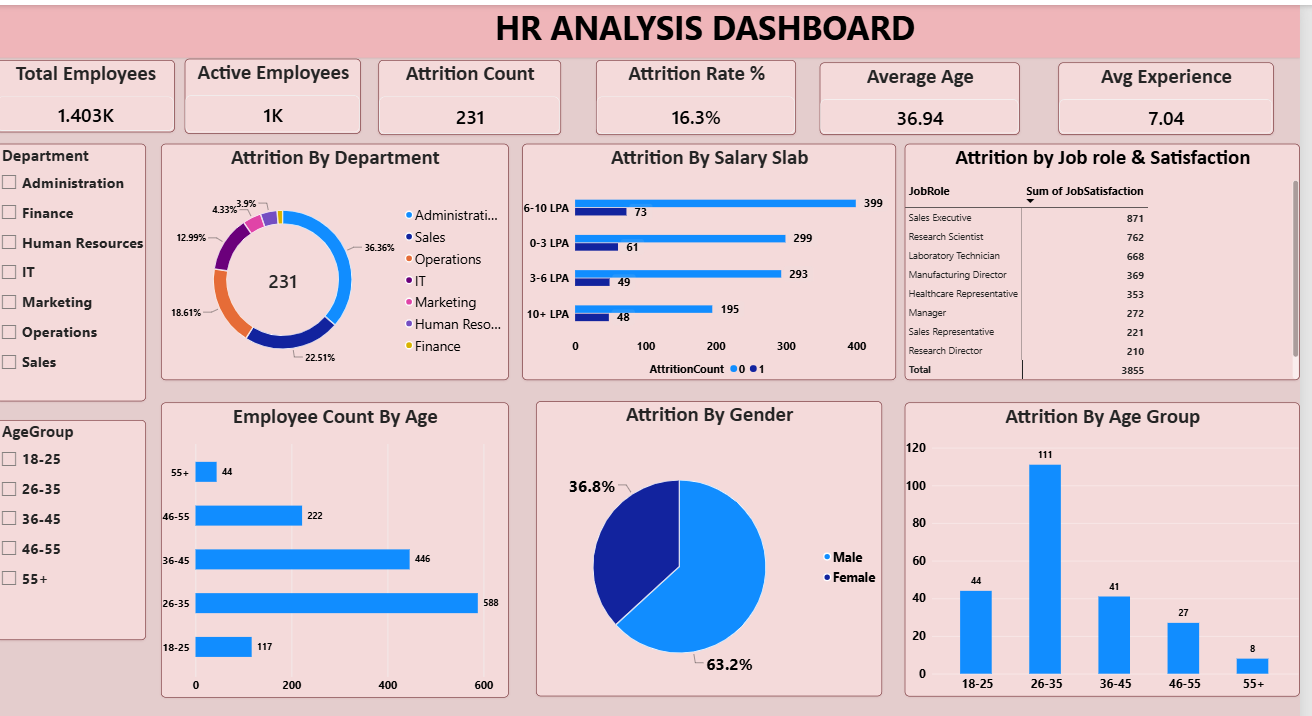

This screenshot's page, from the dashboard's own definition file:
{"tool":"powerbi","page":{"name":"Page 2","canvas":[1920,1080],"ordinal":1},"visuals":[{"type":"textbox","box":[0,0,1919.6,60.7],"z":0},{"type":"cardVisual","title":"Total Employees","fields":{"Data":["Count(HR_Data.EmpID)"]},"box":[0,81,263.2,106.7],"z":1000},{"type":"cardVisual","title":"Active Employees","fields":{"Data":["Sum(HR_Data.EmployeeCount)"]},"box":[296.3,81,259.5,110.4],"z":2000},{"type":"cardVisual","title":"Attrition Count","fields":{"Data":["Sum(HR_Data.AttritionCount)"]},"box":[563.2,81,268.7,110.4],"z":3000},{"type":"cardVisual","title":"Attrition Rate % ","fields":{"Data":["HR_Data.Attrition Rate %"]},"box":[870.6,77.3,294.5,110.4],"z":4000},{"type":"cardVisual","title":"Average Age ","fields":{"Data":["Avg(HR_Data.Age)"]},"box":[1216.6,77.3,294.5,106.7],"z":5000},{"type":"cardVisual","title":"Avg Experience","fields":{"Data":["Avg(HR_Data.YearsatCompany)"]},"box":[1581,81,316.6,106.7],"z":6000},{"type":"donutChart","title":"Attrition By Department","fields":{"Category":["HR_Data.Department"],"Y":["Sum(HR_Data.AttritionCount)"]},"box":[0,204.3,605.5,335],"z":7000},{"type":"clusteredBarChart","title":"Attrition By Salary Slab","fields":{"Category":["HR_Data.SalarySlab"],"Series":["HR_Data.AttritionCount"],"Y":["CountNonNull(HR_Data.EmpID)"]},"box":[618.4,204.3,629.5,335],"z":8000},{"type":"pivotTable","title":"Attrition by Job role & Satisfaction","fields":{"Rows":["HR_Data.JobRole"],"Values":["Sum(HR_Data.JobSatisfaction)"]},"box":[1262.6,204.3,657.1,335],"z":9000},{"type":"clusteredBarChart","title":"Employee Count By Age ","fields":{"Category":["HR_Data.AgeGroup"],"Y":["CountNonNull(HR_Data.AttritionCount)"]},"box":[0,563.2,605.5,458.3],"z":10000},{"type":"pieChart","title":"Attrition By Gender","fields":{"Category":["HR_Data.Gender"],"Y":["Sum(HR_Data.AttritionCount)"]},"box":[618,563,629,458],"z":11000},{"type":"clusteredColumnChart","title":"Attrition By Age Group ","fields":{"Category":["HR_Data.AgeGroup"],"Y":["Sum(HR_Data.AttritionCount)"]},"box":[1263,563,657,458],"z":11001}]}

Visuals, with their boxes on the page's 1920x1080 design canvas (x1, y1, x2, y2). These are canvas units, not pixel positions in the 1312x716 screenshot, which may show the page scaled, cropped or inside an application window:
textbox: x1=0 y1=0 x2=1920 y2=61
"Total Employees" cardVisual: x1=0 y1=81 x2=263 y2=188
"Active Employees" cardVisual: x1=296 y1=81 x2=556 y2=191
"Attrition Count" cardVisual: x1=563 y1=81 x2=832 y2=191
"Attrition Rate % " cardVisual: x1=871 y1=77 x2=1165 y2=188
"Average Age " cardVisual: x1=1217 y1=77 x2=1511 y2=184
"Avg Experience" cardVisual: x1=1581 y1=81 x2=1898 y2=188
"Attrition By Department" donutChart: x1=0 y1=204 x2=606 y2=539
"Attrition By Salary Slab" clusteredBarChart: x1=618 y1=204 x2=1248 y2=539
"Attrition by Job role & Satisfaction" pivotTable: x1=1263 y1=204 x2=1920 y2=539
"Employee Count By Age " clusteredBarChart: x1=0 y1=563 x2=606 y2=1022
"Attrition By Gender" pieChart: x1=618 y1=563 x2=1247 y2=1021
"Attrition By Age Group " clusteredColumnChart: x1=1263 y1=563 x2=1920 y2=1021
